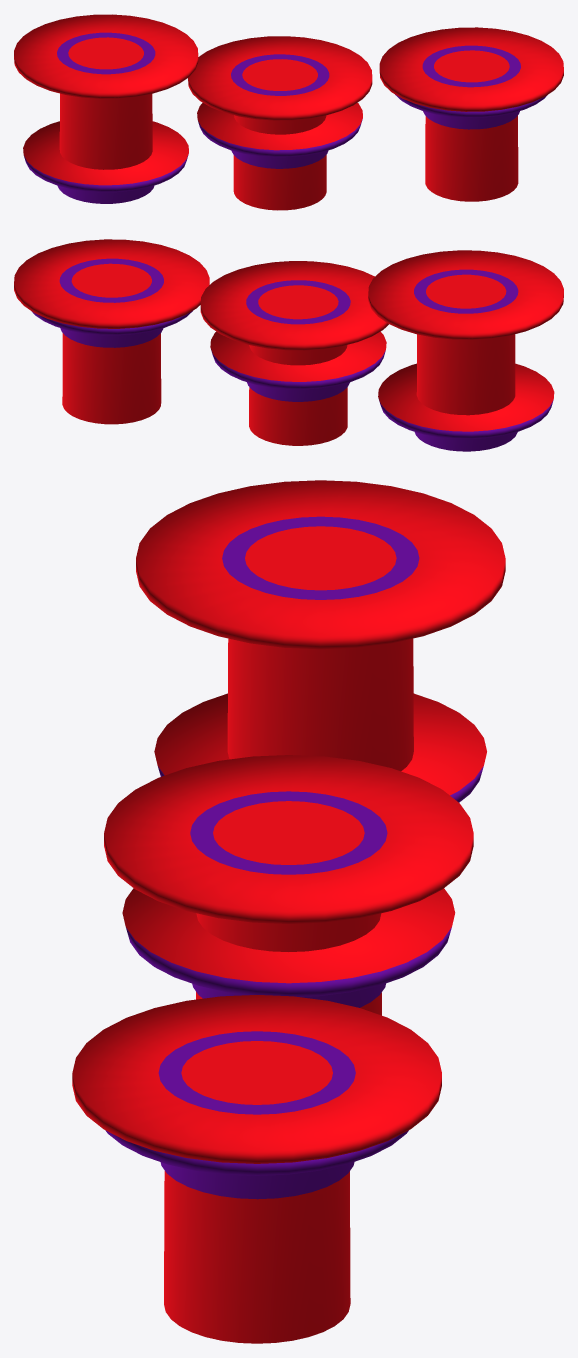
The model's file is kangarooooo.fbx.
3 views of the same model, one above another, from view 1: azimuth 30°, elevation 25°; view 2: azimuth 150°, elevation 25°; view 3: azimuth 270°, elevation 25° (orthographic). The views are drawn at different scales.
Parts seen in each view (by area): view 1: Cylinder.002, Cylinder, Cylinder.004, Cylinder.001, Cylinder.005, Cylinder.003; view 2: Cylinder.002, Cylinder, Cylinder.004, Cylinder.001, Cylinder.005, Cylinder.003; view 3: Cylinder.002, Cylinder, Cylinder.004, Cylinder.005, Cylinder.001, Cylinder.003.
Boxes of the visible parts, <box> form: Cylinder.002: <box>379,27,563,201</box>; Cylinder: <box>14,14,198,169</box>; Cylinder.004: <box>188,36,372,210</box>; Cylinder.001: <box>23,121,188,203</box>; Cylinder.005: <box>197,103,362,168</box>; Cylinder.003: <box>395,94,547,129</box>; Cylinder.002: <box>14,239,209,424</box>; Cylinder: <box>368,250,563,415</box>; Cylinder.004: <box>200,261,388,445</box>; Cylinder.001: <box>378,363,554,451</box>; Cylinder.005: <box>210,331,386,401</box>; Cylinder.003: <box>31,310,193,347</box>; Cylinder.002: <box>72,995,441,1343</box>; Cylinder: <box>136,480,505,771</box>; Cylinder.004: <box>104,755,473,1015</box>; Cylinder.005: <box>122,888,455,1007</box>; Cylinder.001: <box>154,693,486,802</box>; Cylinder.003: <box>105,1130,408,1199</box>.
Bounding box in the file's own units: 637 × 242 × 234.
